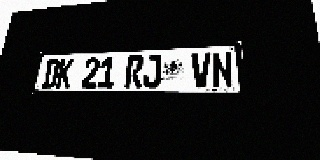1: (97, 57, 116, 88)
2: (81, 57, 100, 88)
D: (41, 59, 60, 88)
J: (142, 55, 162, 88)
K: (55, 58, 74, 88)
N: (211, 51, 233, 88)
R: (125, 55, 144, 88)
V: (191, 52, 211, 88)
